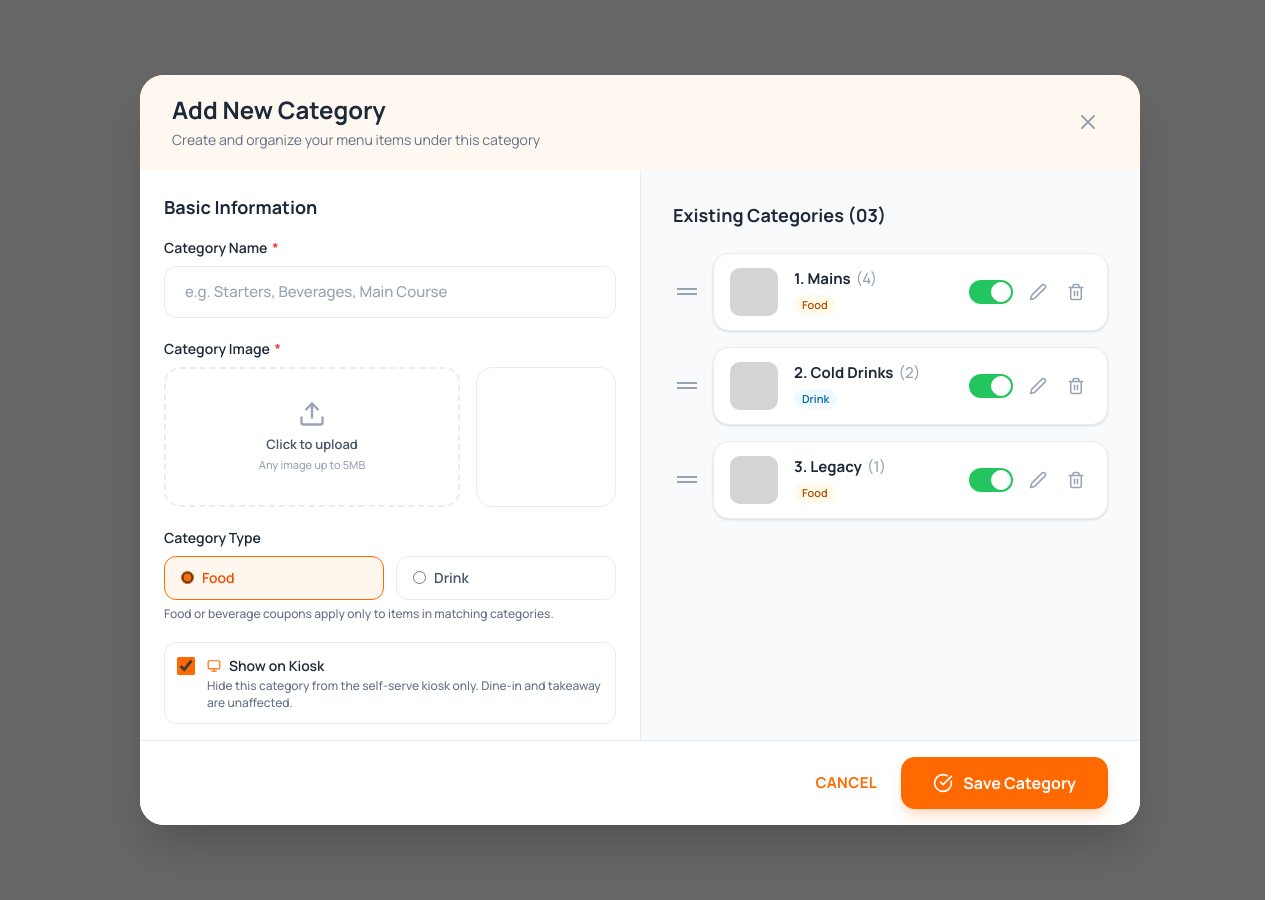
Test: AddCategoryModal — Food / Drink (category kind) › editing pre-selects the category kind and update sends the new kind
The width and height of the screenshot is (1280, 900).
Check: the text "2. Cold Drinks (2)" is shown, box [794,362,920,383]
Step 1. Click the button named "Edit Cold Drinks" → (1038, 386), box [1025,373,1051,399]
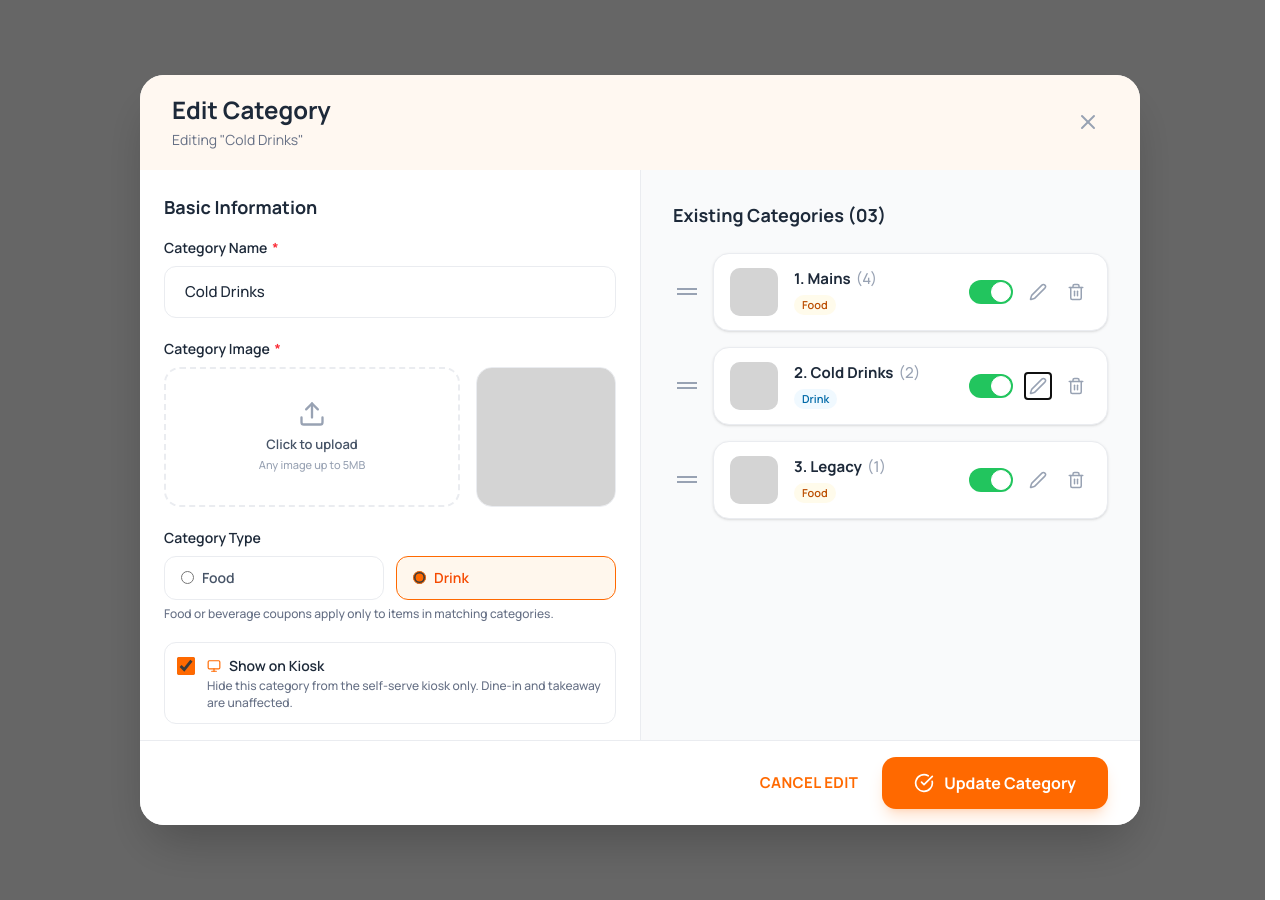
Check: the radio button labelled "Drink" is checked, box [413,571,426,584]
Step 2. Click the button named "Edit Mains" → (1038, 292), box [1025,279,1051,305]
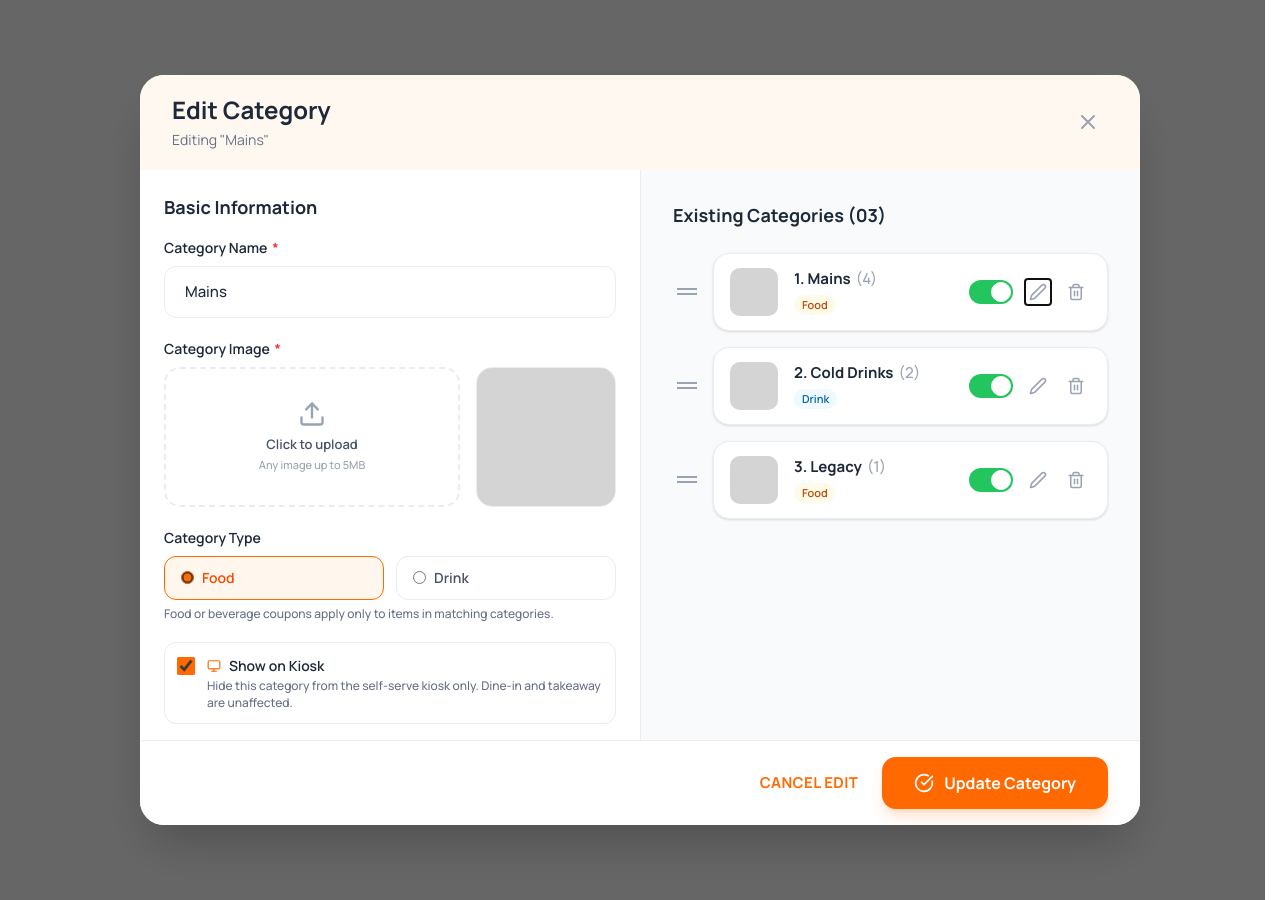
Check: the radio button labelled "Food" is checked, box [181,571,194,584]
Step 3. Click the radio button labelled "Drink" → (420, 578), box [413,571,426,584]
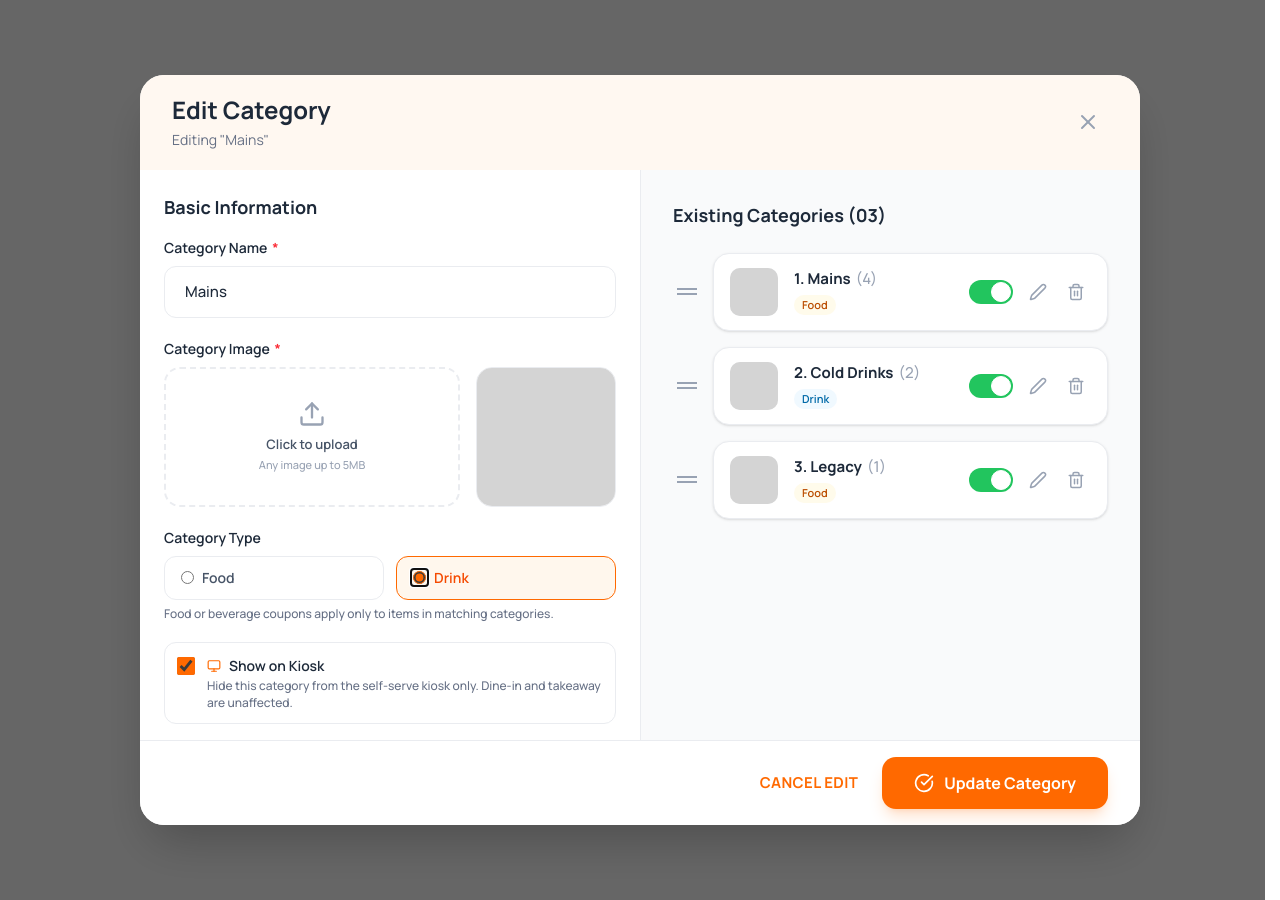
Step 4. Click the button "Update Category" → (995, 783), box [882,757,1108,809]
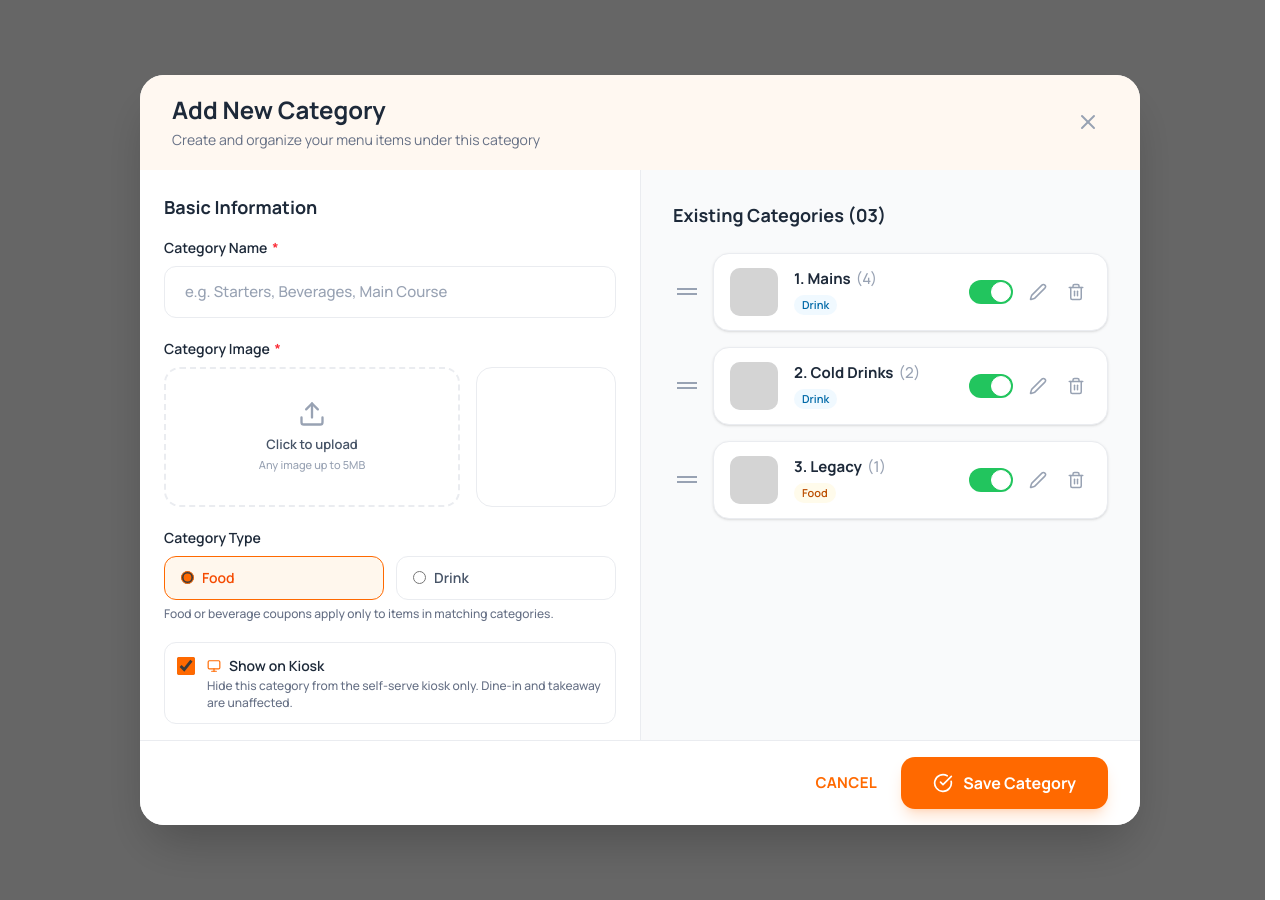
Check: the text with test id "category-kind-c1" reads "Drink", box [802,297,829,312]
